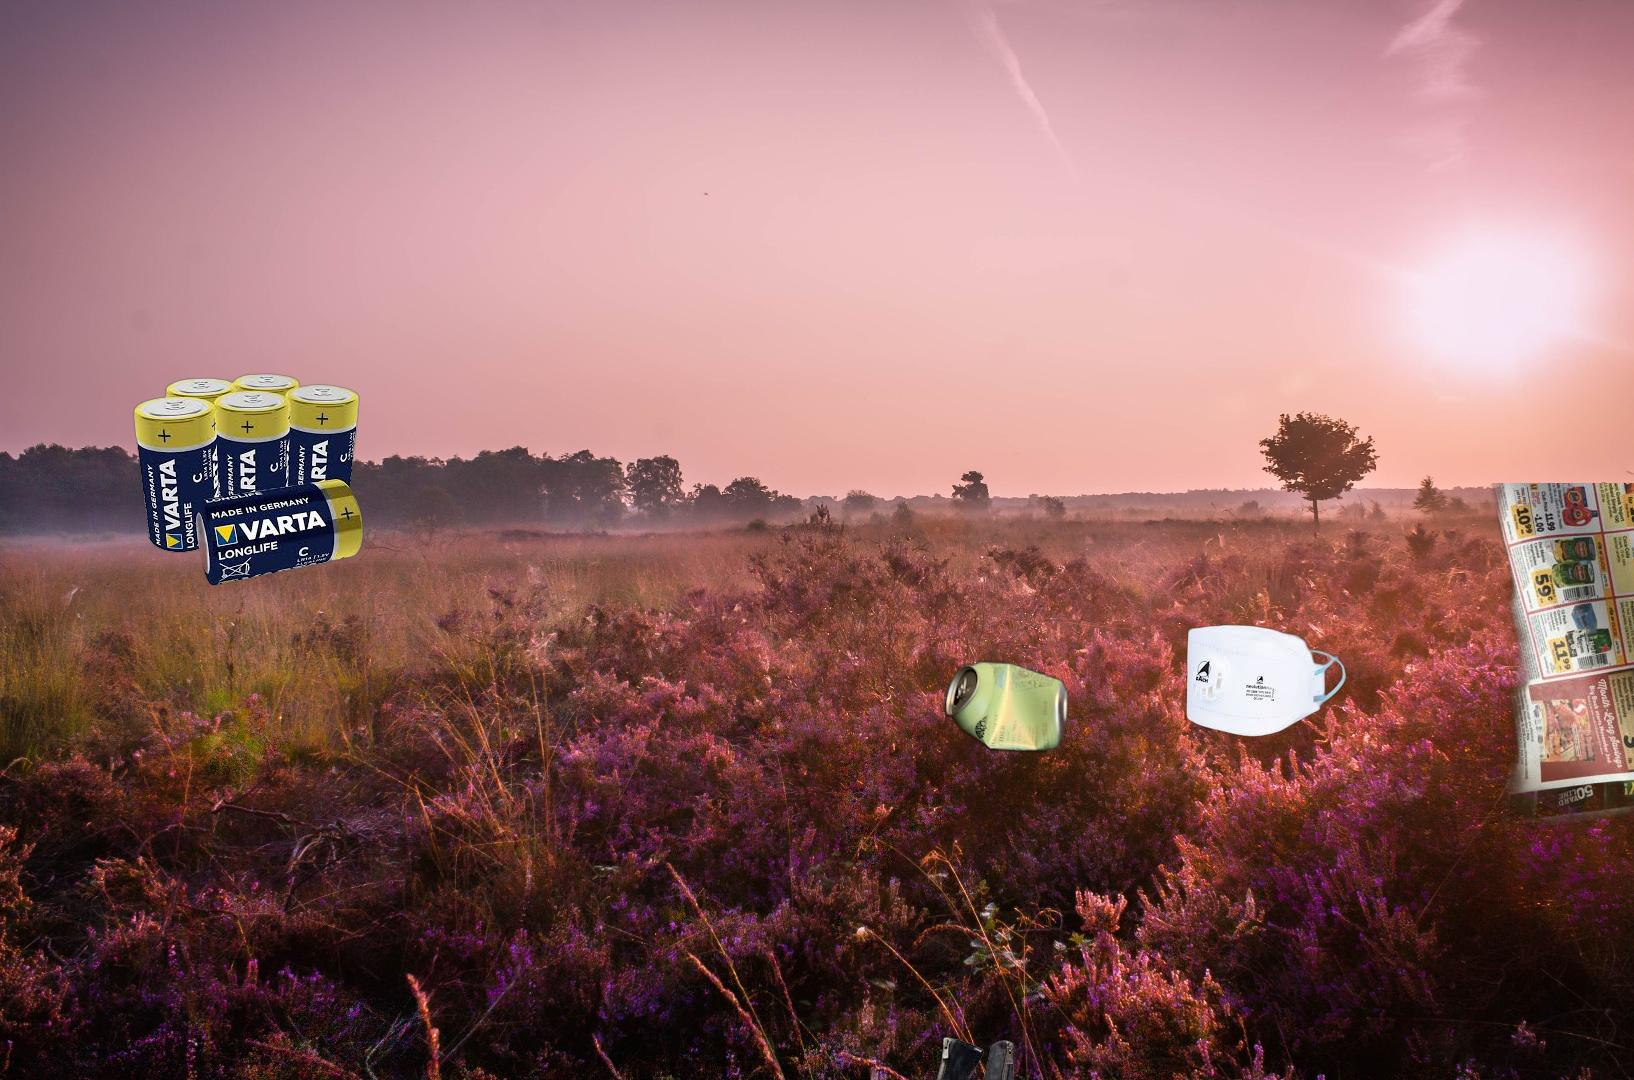battery: (133, 372, 365, 588)
metal-cans: (940, 655, 1072, 758)
paper: (1471, 483, 1634, 837)
shoes: (872, 1034, 1035, 1080)
trash: (1183, 582, 1365, 739)
